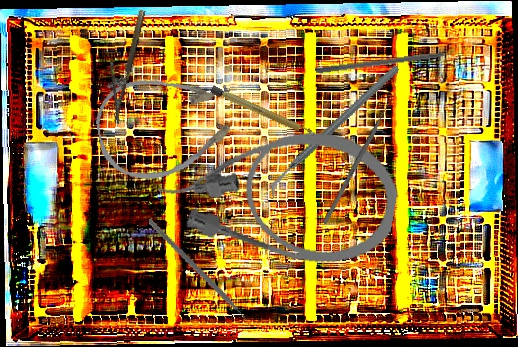Cannula: (150, 106, 406, 276), (89, 63, 245, 188)
Chopper: (242, 63, 426, 200), (128, 218, 268, 335)
Needle Holder: (96, 5, 147, 125)
Pusher: (322, 94, 395, 225), (315, 48, 469, 76)
Scalpel Handle: (210, 85, 316, 139)
